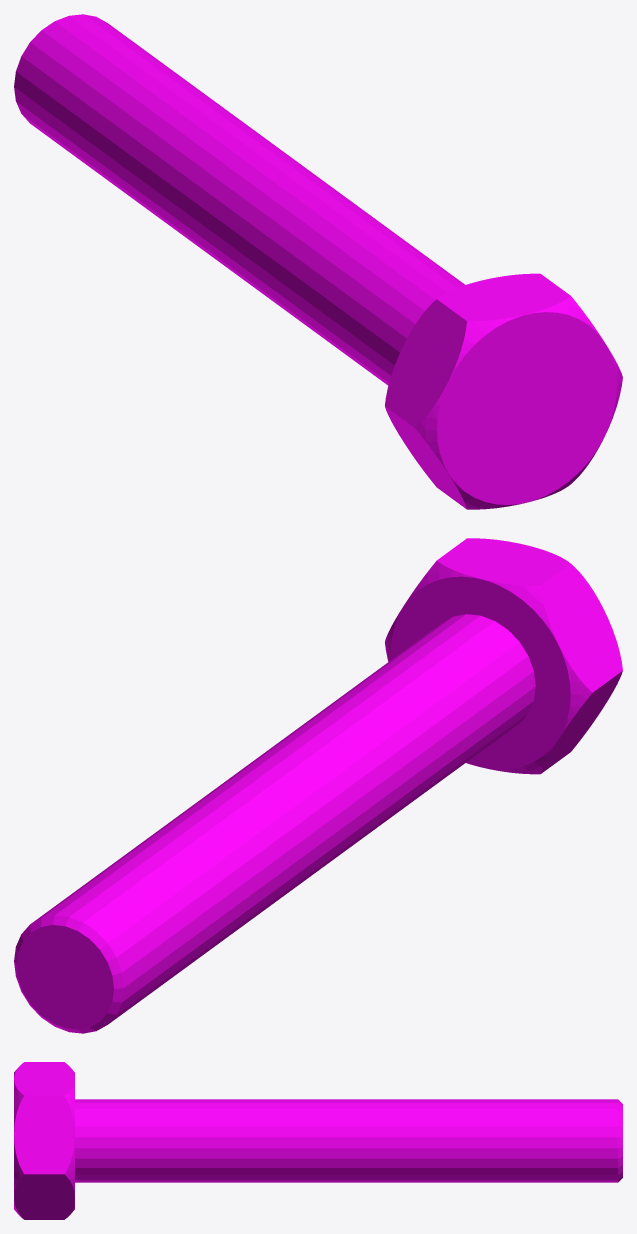
Rendered from caste_axle.glb.
The picture shows the model from 3 angles, top to bottom: view 1: azimuth 30°, elevation 25°; view 2: azimuth 150°, elevation 25°; view 3: azimuth 270°, elevation 25°; orthographic projection. The views are drawn at different scales.
Parts seen in each view (by area): view 1: Node1; view 2: Node1; view 3: Node1.
Boxes of the visible parts, box(x1,y1,x2,y2) form: Node1: box(14, 14, 622, 509); Node1: box(14, 538, 622, 1033); Node1: box(14, 1062, 622, 1219).
Bounding box in the file's own units: 33.02 × 28.6 × 127.
